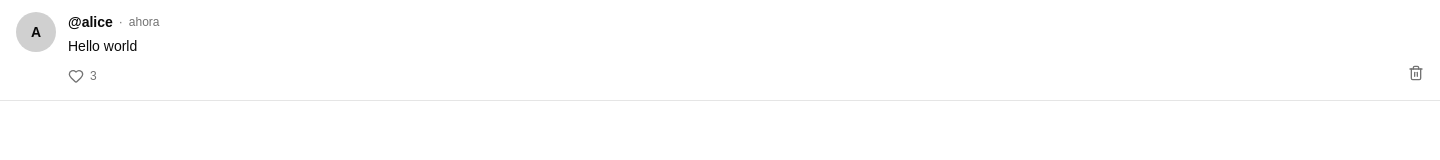
it: TweetCard › shows confirm dialog before delete
Step 1. Click the button named "eliminar tweet" → coordinates (1416, 73), box [1408,65,1424,81]
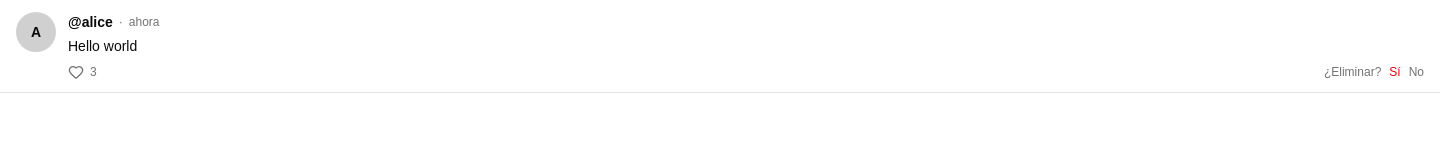
Expected: the text "¿Eliminar?" is shown, [1324,64,1381,80]
Expected: the button "Sí" is shown, [1389,64,1401,80]
Expected: the button "No" is shown, [1409,64,1424,80]
